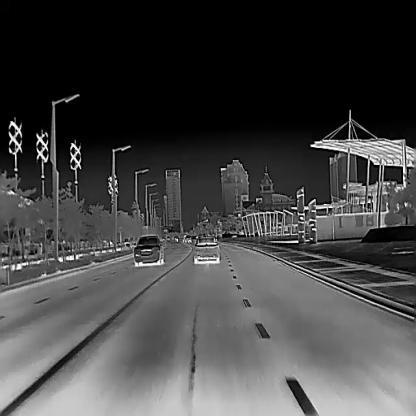car: (133, 234, 164, 266), (192, 235, 220, 264), (185, 234, 192, 243)
